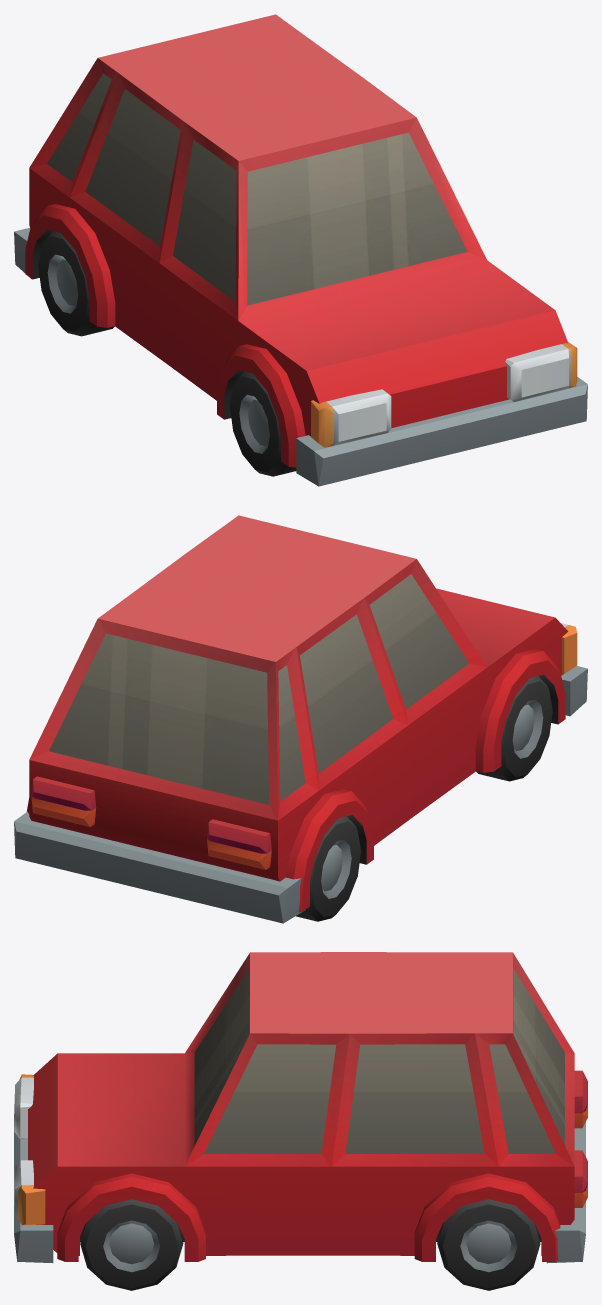
The model's file is compact.glb.
3 renders of one model, top to bottom at view 1: azimuth 30°, elevation 25°; view 2: azimuth 150°, elevation 25°; view 3: azimuth 270°, elevation 25°, orthographic. The views are drawn at different scales.
Parts seen in each view (by area): view 1: car_hatchback, wheel-back-right, wheel-front-right; view 2: car_hatchback, wheel-front-right, wheel-back-right; view 3: car_hatchback, wheel-back-left, wheel-front-left.
Part boxes in pixels (box(x1,y1,x2,y2)): car_hatchback: box(14, 14, 587, 486); wheel-back-right: box(38, 231, 114, 336); wheel-front-right: box(230, 371, 296, 476); car_hatchback: box(14, 515, 587, 923); wheel-front-right: box(476, 676, 552, 781); wheel-back-right: box(296, 816, 361, 921); car_hatchback: box(14, 952, 587, 1263); wheel-back-left: box(437, 1199, 540, 1290); wheel-front-left: box(80, 1199, 183, 1290).
Bounding box in the file's own units: 2.03 × 1.78 × 3.9.
Materials: 1 (1 with a texture image).
